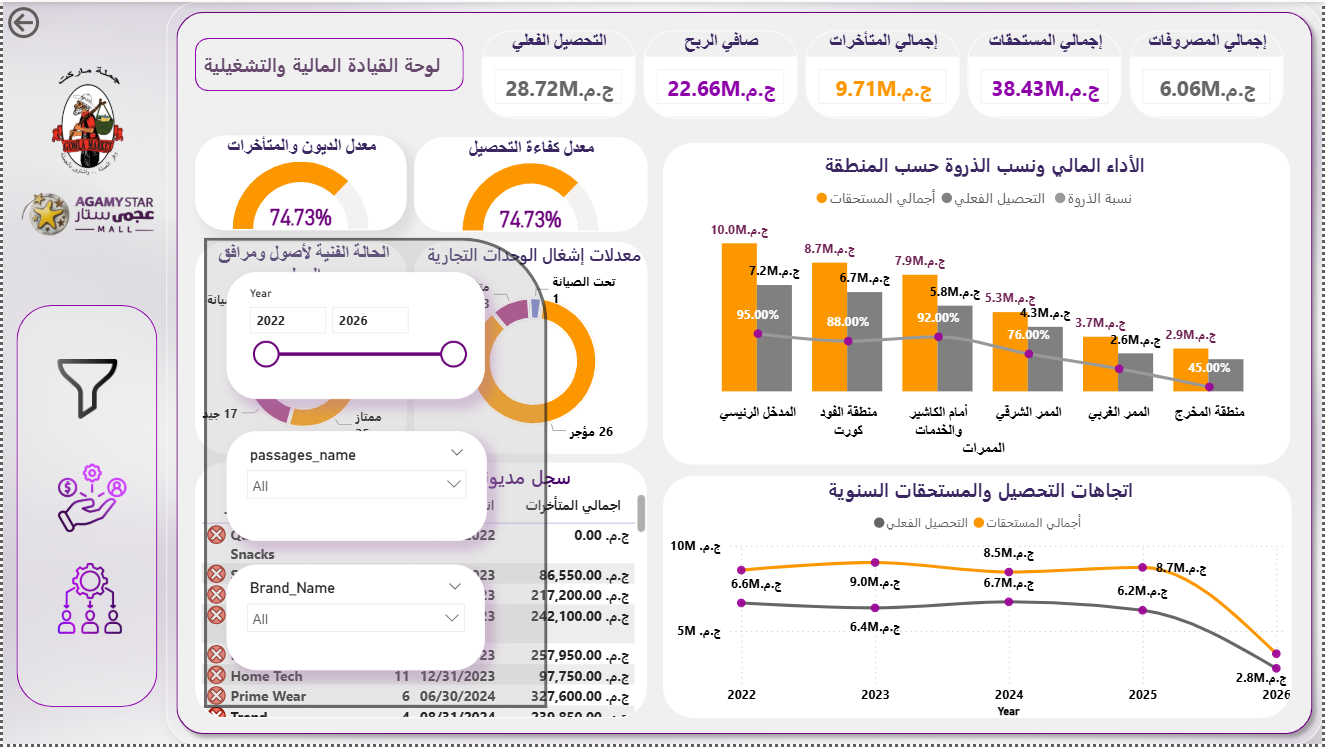

What the dashboard file says about the page in this screenshot:
{"tool":"powerbi","page":{"name":"Financial Overview","canvas":[1280,720],"ordinal":0},"visuals":[{"type":"shape","box":[158.7,0,1122.1,720.6],"z":0},{"type":"cardVisual","title":"إجمالي المستحقات","fields":{"Data":["All_Measures.Total Due"]},"box":[936.4,27.3,150,85],"z":1000},{"type":"image","box":[13.3,178.3,136.7,53.3],"z":2000},{"type":"image","box":[13.3,55,136.7,116.7],"z":3000},{"type":"cardVisual","title":"إجمالي المتأخرات","fields":{"Data":["All_Measures.Net Outstanding"]},"box":[779.3,27.3,150,85],"z":4000},{"type":"cardVisual","title":"صافي الربح","fields":{"Data":["All_Measures.Net Profit"]},"box":[622.1,27.3,150,85],"z":5000},{"type":"cardVisual","title":"التحصيل الفعلي","fields":{"Data":["All_Measures.Total Collections"]},"box":[465,27.3,150,85],"z":6000},{"type":"cardVisual","title":"إجمالي المصروفات","fields":{"Data":["All_Measures.Total Expenses"]},"box":[1093.5,27.3,150,85],"z":7000},{"type":"gauge","title":"معدل الديون والمتأخرات","fields":{"Y":["All_Measures.Arrears Rate %"]},"box":[186.2,129.5,205.6,92.3],"z":8000},{"type":"gauge","title":"معدل كفاءة التحصيل","fields":{"Y":["All_Measures.Collection Rate %"]},"box":[398.3,131.2,226.7,92.3],"z":9000},{"type":"lineClusteredColumnComboChart","title":"الأداء المالي ونسب الذروة حسب المنطقة","fields":{"Category":["Dim_Passages.passages_name"],"Y":["All_Measures.Total Due","All_Measures.Total Collections"],"Y2":["Avg(Dim_Passages.Peak_Percentage)"]},"box":[640,136.7,608.3,311.7],"z":10000},{"type":"tableEx","title":"سجل مديونيات ومخالفات المستأجرين","fields":{"Values":["Dim_tenants.Brand_Name","All_Measures.count violations","Fact_Contracts.End_Date","All_Measures.Net Outstanding"]},"box":[186.2,446.9,438.8,247.7],"z":11000},{"type":"actionButton","box":[0,0,100,40],"z":12000},{"type":"donutChart","title":"الحالة الفنية لأصول ومرافق المول","fields":{"Category":["Dim_Assets.Asset_Condition"],"Y":["CountNonNull(Dim_Assets.Asset_Name)"]},"box":[186.7,232.2,205,205],"z":13000},{"type":"lineChart","title":"اتجاهات التحصيل والمستحقات السنوية","fields":{"Category":["Dim_Calendar.Year","Dim_Calendar.Month Number"],"Y":["All_Measures.Total Collections","All_Measures.Total Due"]},"box":[640.6,459.7,610.1,234.9],"z":14000},{"type":"donutChart","title":"معدلات إشغال الوحدات التجارية","fields":{"Category":["Dim_Shops.Shop_Status"],"Y":["CountNonNull(Dim_Shops.Shop_ID)"]},"box":[398.3,232.2,226.7,205],"z":15000},{"type":"shape","box":[13.3,293.3,136.7,390],"z":16000},{"type":"image","box":[35,545,98.3,68.3],"z":17000},{"type":"image","box":[35,345,93.3,58.3],"z":18000},{"type":"image","box":[35,446.7,103.3,68.3],"z":19000},{"type":"shape","title":"لوحة القيادة المالية والتشغيلية","box":[185.7,35.5,260.8,51.5],"z":21000},{"type":"textbox","box":[157.9,42.2,304.7,44.1],"z":22000}]}

Visuals, with their boxes on the page's 1280x720 design canvas (x1, y1, x2, y2). These are canvas units, not pixel positions in the 1325x747 screenshot, which may show the page scaled, cropped or inside an application window:
shape: [159, 0, 1281, 721]
"إجمالي المستحقات" cardVisual: [936, 27, 1086, 112]
image: [13, 178, 150, 232]
image: [13, 55, 150, 172]
"إجمالي المتأخرات" cardVisual: [779, 27, 929, 112]
"صافي الربح" cardVisual: [622, 27, 772, 112]
"التحصيل الفعلي" cardVisual: [465, 27, 615, 112]
"إجمالي المصروفات" cardVisual: [1094, 27, 1244, 112]
"معدل الديون والمتأخرات" gauge: [186, 130, 392, 222]
"معدل كفاءة التحصيل" gauge: [398, 131, 625, 224]
"الأداء المالي ونسب الذروة حسب المنطقة" lineClusteredColumnComboChart: [640, 137, 1248, 448]
"سجل مديونيات ومخالفات المستأجرين" tableEx: [186, 447, 625, 695]
actionButton: [0, 0, 100, 40]
"الحالة الفنية لأصول ومرافق المول" donutChart: [187, 232, 392, 437]
"اتجاهات التحصيل والمستحقات السنوية" lineChart: [641, 460, 1251, 695]
"معدلات إشغال الوحدات التجارية" donutChart: [398, 232, 625, 437]
shape: [13, 293, 150, 683]
image: [35, 545, 133, 613]
image: [35, 345, 128, 403]
image: [35, 447, 138, 515]
"لوحة القيادة المالية والتشغيلية" shape: [186, 36, 446, 87]
textbox: [158, 42, 463, 86]
